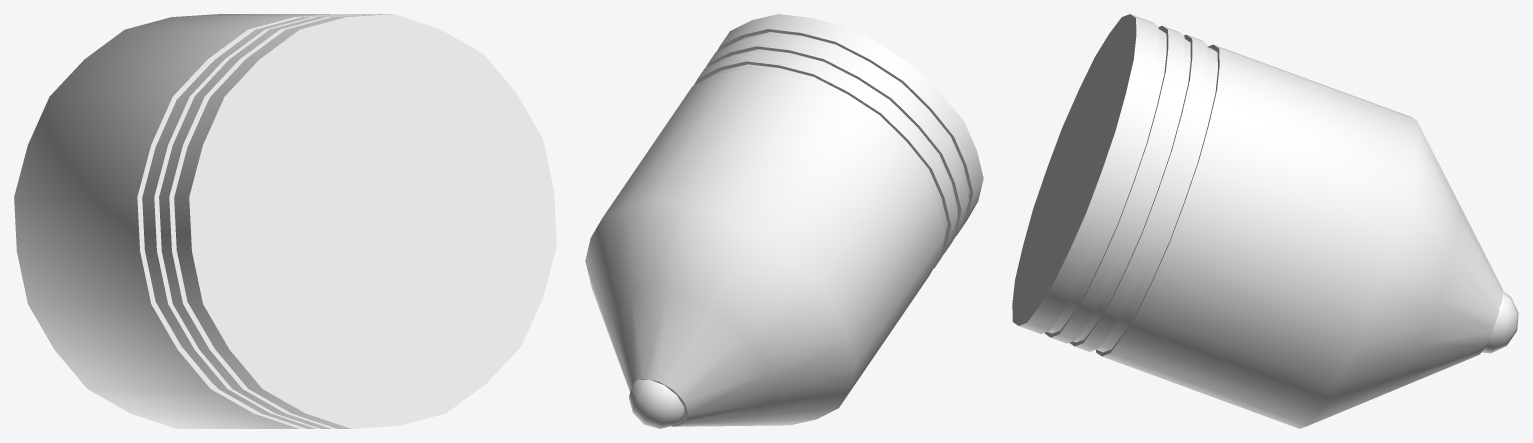
The model's file is ref_spinningtop.glb.
3 renders of one model, left to right at view 1: azimuth 30°, elevation 25°; view 2: azimuth 150°, elevation 25°; view 3: azimuth 270°, elevation 25°, orthographic. The views are drawn at different scales.
Parts seen in each view (by area): view 1: ref_spinningtop; view 2: ref_spinningtop; view 3: ref_spinningtop.
Boxes of the visible parts, bbox=[...] form: ref_spinningtop: bbox=[14, 14, 556, 428]; ref_spinningtop: bbox=[585, 14, 983, 428]; ref_spinningtop: bbox=[1012, 14, 1518, 428].
Bounding box in the file's own units: 0.6538 × 0.8307 × 1.
1 material, 1 textured.
